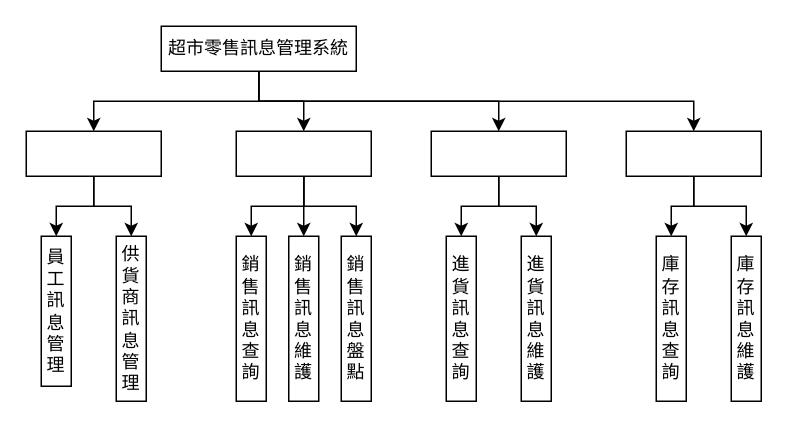
This 788x428 diagram has some shape labels left out. Here are the shapes that lost their labels. From the top down, the centre of each, then its label:
At (93,153): "人事管理模組".
At (303,153): "銷售管理模組".
At (498,153): "進貨管理模組".
At (693,153): "庫存管理模組".
